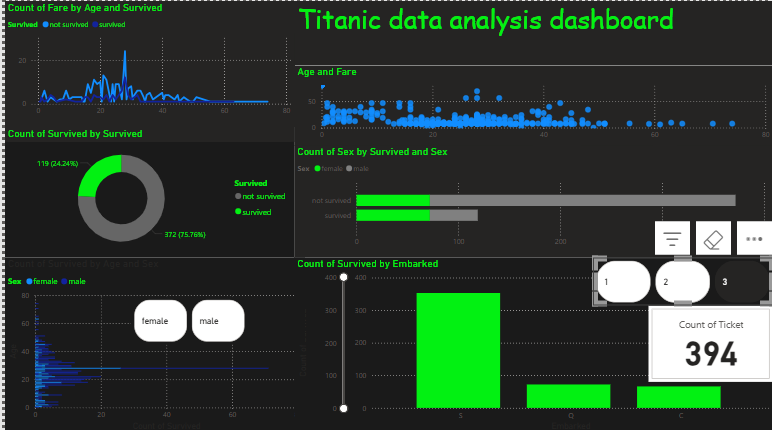

This screenshot's page, from the dashboard's own definition file:
{"tool":"powerbi","page":{"name":"Page 1","canvas":[1280,720],"ordinal":0},"visuals":[{"type":"donutChart","fields":{"Y":["CountNonNull(Titanic dataset.Survived)"],"Category":["Titanic dataset.Survived"]},"box":[0,210,482.5,217.5],"z":0},{"type":"barChart","fields":{"Category":["Titanic dataset.Survived"],"Y":["CountNonNull(Titanic dataset.Sex)"],"Series":["Titanic dataset.Sex"]},"box":[482.5,240,797.5,187.5],"z":1000},{"type":"barChart","fields":{"Category":["Titanic dataset.Age"],"Y":["CountNonNull(Titanic dataset.Survived)"],"Series":["Titanic dataset.Sex"]},"box":[0,427.3,500,292.7],"z":2000},{"type":"clusteredColumnChart","fields":{"Category":["Titanic dataset.Embarked"],"Y":["CountNonNull(Titanic dataset.Survived)"]},"box":[483.3,426.7,796.7,293.3],"z":3000},{"type":"scatterChart","fields":{"X":["Titanic dataset.Age"],"Y":["Titanic dataset.Fare"]},"box":[483.3,106.7,796.7,133.3],"z":4000},{"type":"advancedSlicerVisual","fields":{"Values":["Titanic dataset.Sex"]},"box":[210,492.5,290,80],"z":5000},{"type":"lineChart","fields":{"Category":["Titanic dataset.Age"],"Y":["Count(Titanic dataset.Fare)"],"Series":["Titanic dataset.Survived"]},"box":[0,0,483.3,210],"z":6000},{"type":"advancedSlicerVisual","fields":{"Values":["Titanic dataset.Pclass"]},"box":[980,426.7,300,80],"z":7000},{"type":"cardVisual","fields":{"Data":["Count(Titanic dataset.Ticket)"]},"box":[1073.3,510,206.7,126.7],"z":8000},{"type":"textbox","title":"Titanic data analysis dashboard","box":[483.3,0,796.7,106.7],"z":9000}]}

Visuals, with their boxes on the page's 1280x720 design canvas (x1, y1, x2, y2). These are canvas units, not pixel positions in the 772x430 screenshot, which may show the page scaled, cropped or inside an application window:
donutChart - CountNonNull(Titanic dataset.Survived) x Titanic dataset.Survived: 0:210:482:428
barChart - Titanic dataset.Survived x CountNonNull(Titanic dataset.Sex): 482:240:1280:428
barChart - Titanic dataset.Age x CountNonNull(Titanic dataset.Survived): 0:427:500:720
clusteredColumnChart - Titanic dataset.Embarked x CountNonNull(Titanic dataset.Survived): 483:427:1280:720
scatterChart - Titanic dataset.Age x Titanic dataset.Fare: 483:107:1280:240
advancedSlicerVisual - Titanic dataset.Sex: 210:492:500:572
lineChart - Titanic dataset.Age x Count(Titanic dataset.Fare): 0:0:483:210
advancedSlicerVisual - Titanic dataset.Pclass: 980:427:1280:507
cardVisual - Count(Titanic dataset.Ticket): 1073:510:1280:637
"Titanic data analysis dashboard" textbox: 483:0:1280:107
